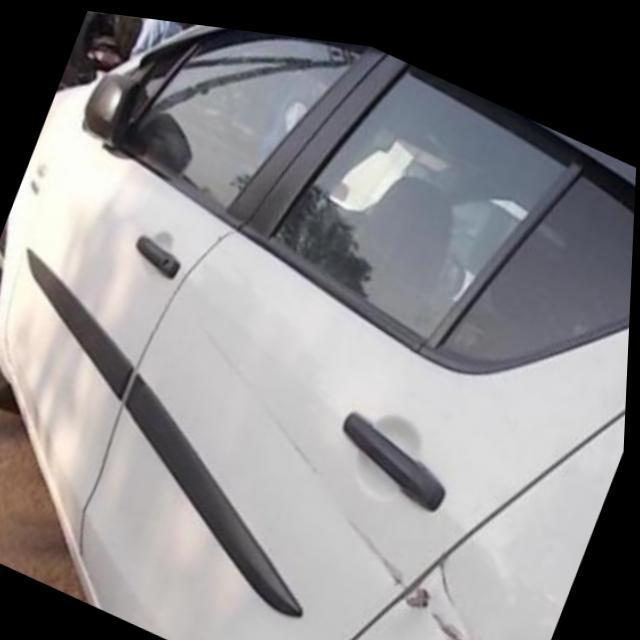crack: (431, 597, 490, 640), (440, 545, 467, 597), (406, 571, 441, 609), (388, 551, 419, 585)
scratch: (200, 318, 400, 562)
